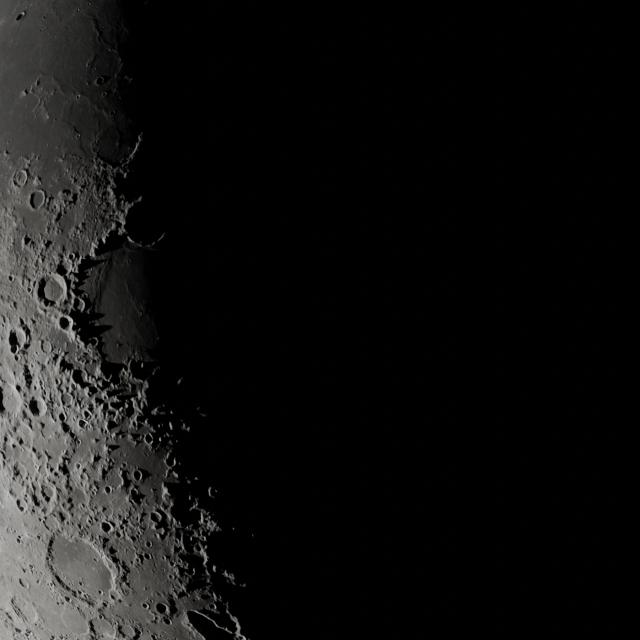crater: (39, 272, 67, 303), (2, 383, 26, 419), (71, 368, 91, 387), (42, 483, 57, 504), (132, 360, 148, 376), (60, 393, 74, 408), (40, 341, 54, 355), (106, 418, 120, 431), (74, 297, 86, 312), (132, 469, 143, 482), (143, 433, 154, 445), (61, 189, 73, 200), (82, 408, 92, 421), (78, 418, 89, 429), (10, 342, 20, 354), (103, 484, 113, 495), (88, 337, 99, 347), (141, 552, 151, 562), (50, 202, 60, 212), (122, 74, 132, 84), (144, 539, 153, 550), (16, 534, 24, 544), (74, 462, 82, 472), (142, 602, 150, 611), (68, 252, 76, 261), (101, 90, 109, 98), (7, 274, 14, 282), (97, 589, 104, 596), (75, 93, 82, 100), (36, 533, 42, 541), (14, 353, 20, 361), (35, 78, 41, 86), (75, 132, 81, 139), (110, 109, 116, 116), (4, 149, 10, 155), (42, 14, 48, 20), (24, 88, 29, 95)
rock: (20, 91, 43, 115), (27, 395, 48, 419), (29, 190, 46, 209), (108, 470, 125, 488), (130, 486, 146, 505), (26, 78, 43, 95), (13, 169, 29, 187), (44, 444, 59, 461), (114, 622, 131, 637), (29, 489, 42, 508), (150, 510, 165, 526), (58, 315, 72, 331), (100, 520, 114, 535), (100, 464, 113, 480), (154, 602, 168, 616), (124, 404, 137, 418), (155, 523, 168, 536), (94, 74, 108, 86), (196, 512, 208, 526), (18, 577, 30, 589), (166, 455, 177, 468), (21, 235, 32, 248), (17, 500, 28, 512), (108, 590, 120, 601), (168, 603, 178, 616), (58, 411, 68, 424), (54, 210, 64, 223), (108, 546, 119, 557), (71, 435, 82, 446), (93, 453, 103, 464), (26, 282, 35, 294), (17, 436, 25, 446), (15, 383, 23, 393), (210, 487, 218, 497), (34, 576, 41, 586), (167, 422, 174, 432), (206, 486, 213, 496), (162, 616, 170, 624), (97, 615, 105, 623), (63, 594, 70, 603), (192, 475, 199, 483), (92, 556, 99, 563), (29, 563, 35, 571), (211, 564, 217, 572), (142, 584, 148, 592)
